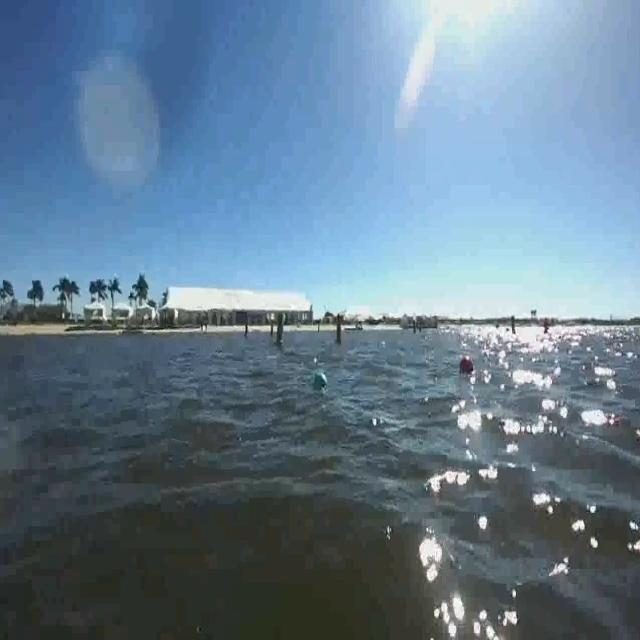green-buoy: (314, 374, 326, 390)
green-column-buoy: (275, 310, 285, 350)
red-buoy: (461, 353, 477, 378)
